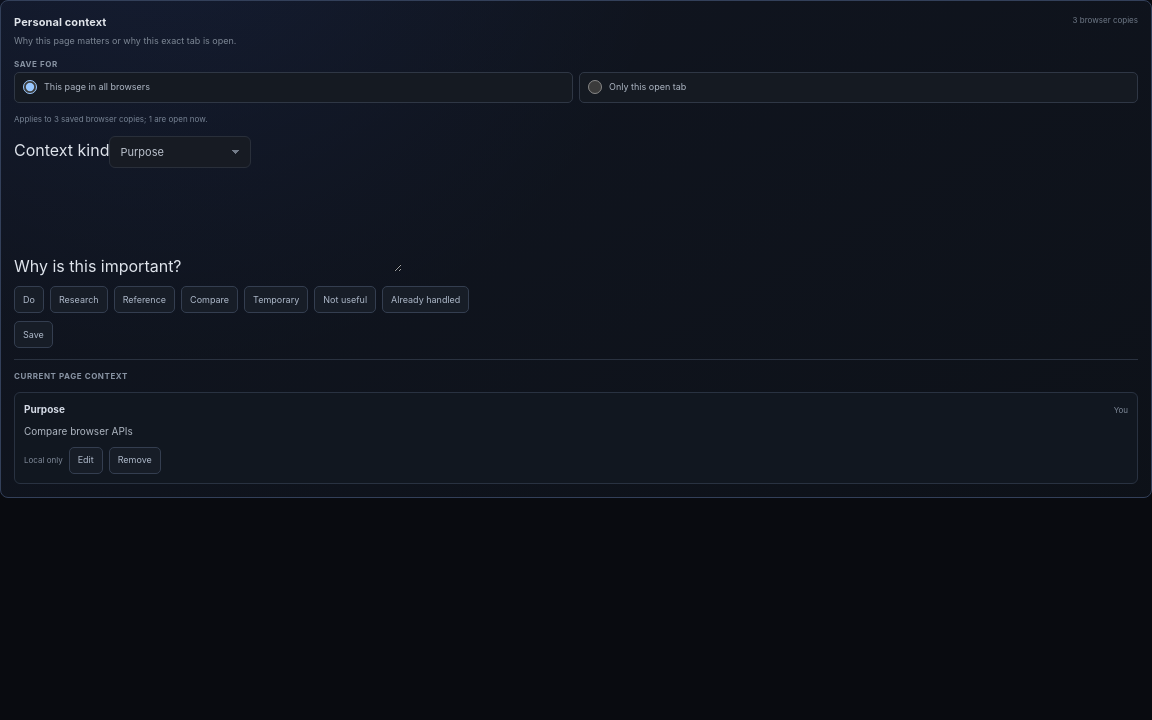
Test: PersonalContextPanel › shows page scope/copy counts and sends immutable local-only revisions
Check: the text "3 browser copies" is shown, box [1073, 14, 1138, 26]
Check: the text "Applies to 3 saved browser copies; 1 are open now." is shown, box [14, 114, 208, 124]
Click the button "Edit" at (86, 460), box [69, 447, 103, 474]
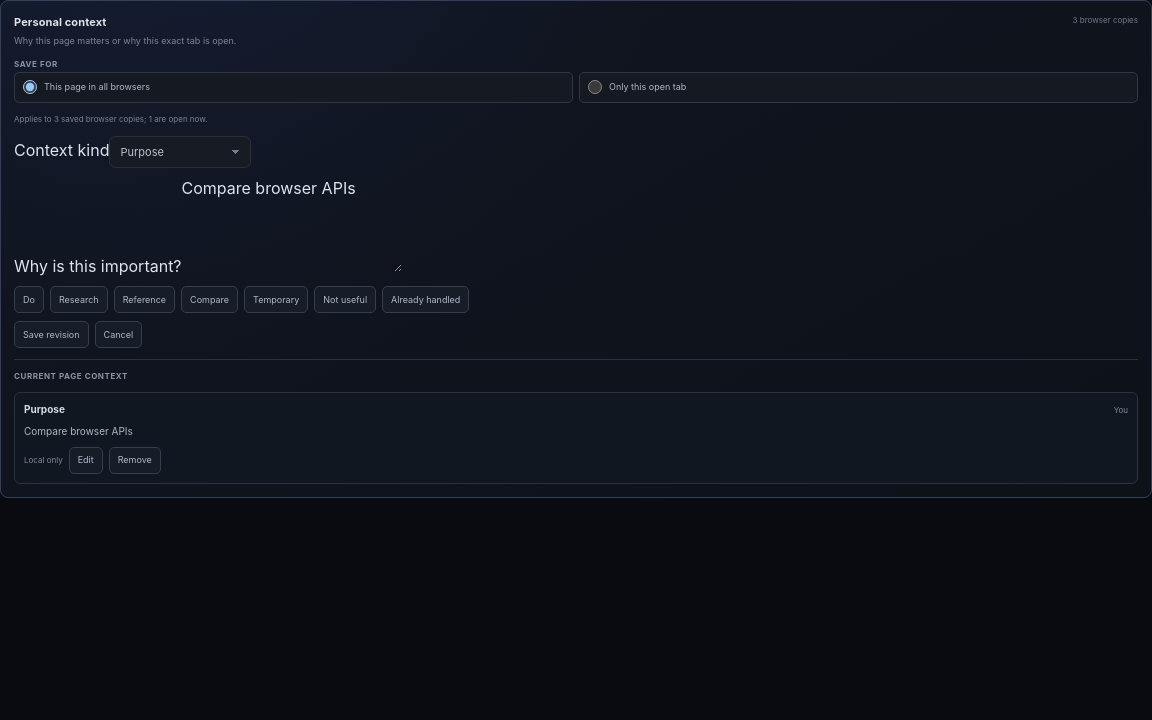
Replace the text in the text box labelled "Why is this important?" with "Updated reason" at (292, 224), box [182, 176, 402, 272]
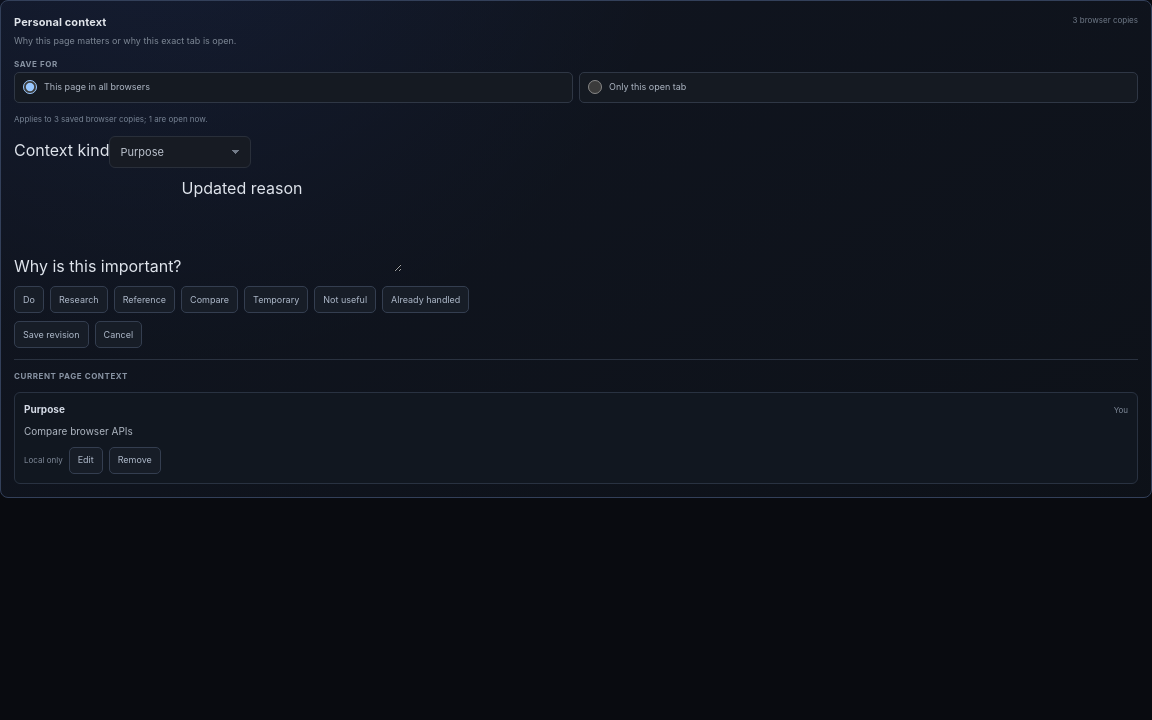
Click the button "Save revision" at (51, 335), box [14, 321, 89, 348]
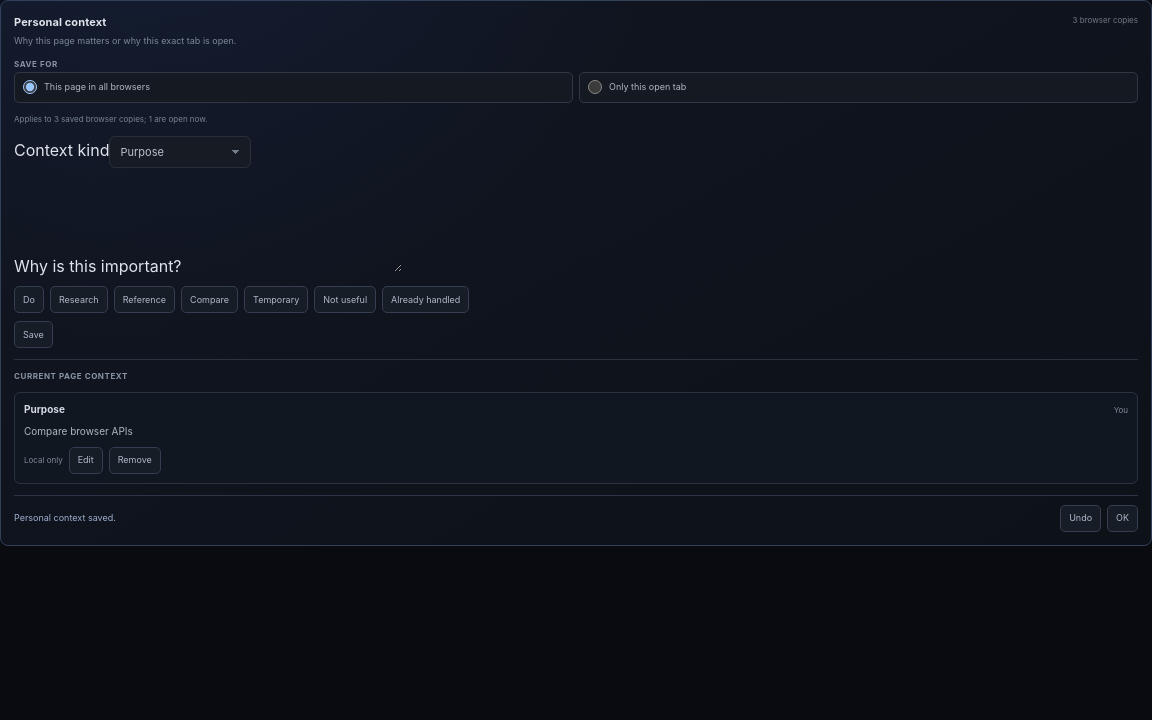
Check: the button "Undo" is shown, box [1060, 505, 1101, 532]
Click the button "OK" at (1123, 518), box [1107, 505, 1138, 532]
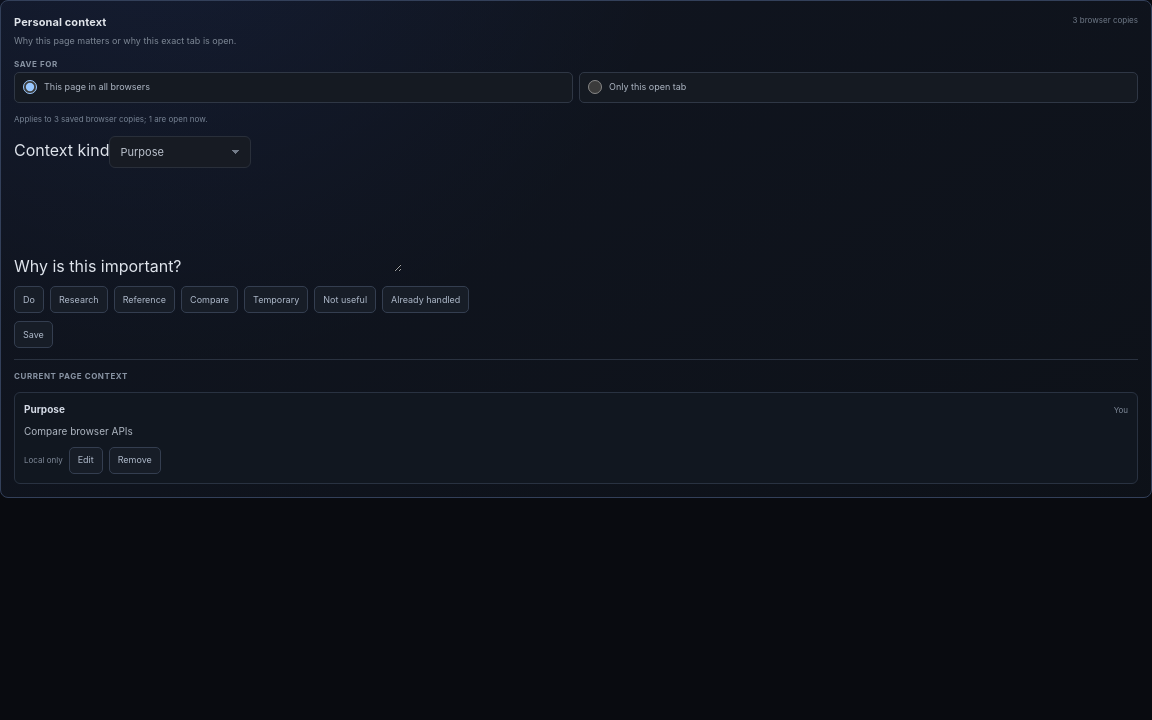
Check: the button "Undo" is gone
